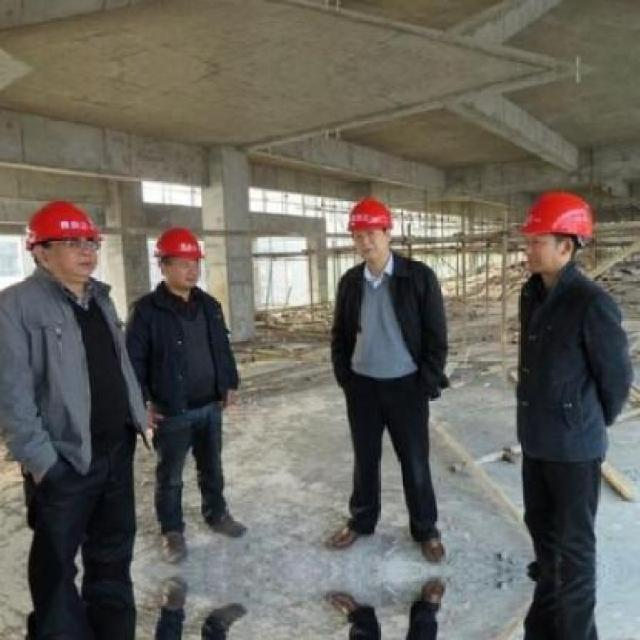helmet: (23, 192, 106, 285), (515, 187, 596, 281), (152, 223, 211, 291), (348, 194, 400, 264)
